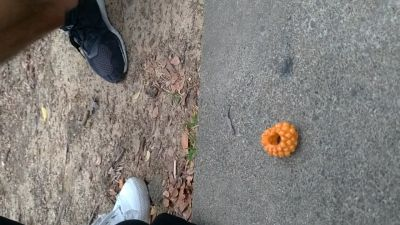eggs: (262, 118, 301, 159)
